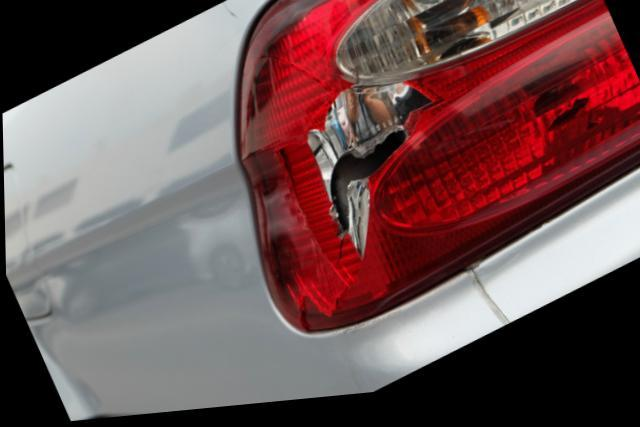lamp broken: (237, 0, 640, 340)
